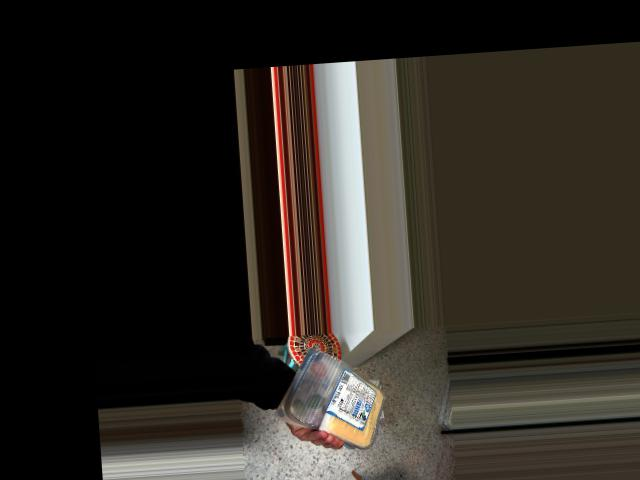cheese: (286, 346, 390, 440)
